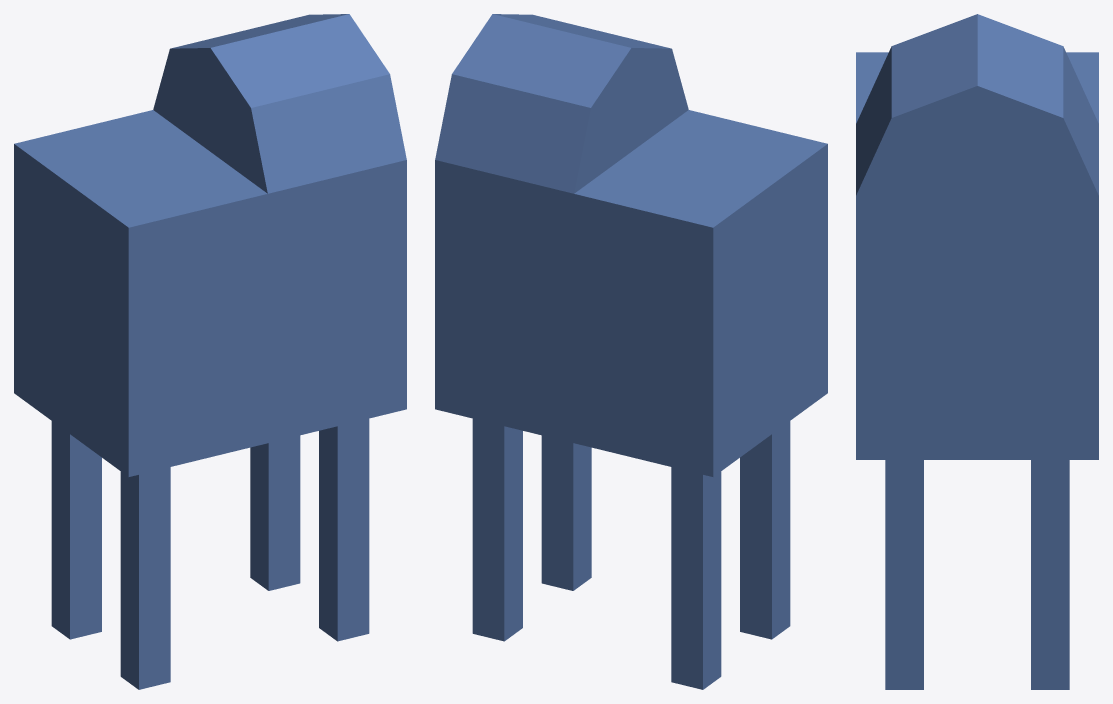
Rendered from Mailbox.glb.
The picture shows the model from 3 angles, left to right: view 1: azimuth 30°, elevation 25°; view 2: azimuth 150°, elevation 25°; view 3: azimuth 270°, elevation 25°; orthographic projection. The views are drawn at different scales.
Visible parts, largest first — view 1: Mailbox; view 2: Mailbox; view 3: Mailbox.
Boxes of the visible parts, box(x1,y1,x2,y2) form: Mailbox: box(14, 14, 406, 689); Mailbox: box(435, 14, 827, 689); Mailbox: box(856, 14, 1098, 689).
Size of the model in its own units: 0.7 by 1.4 by 0.5.
